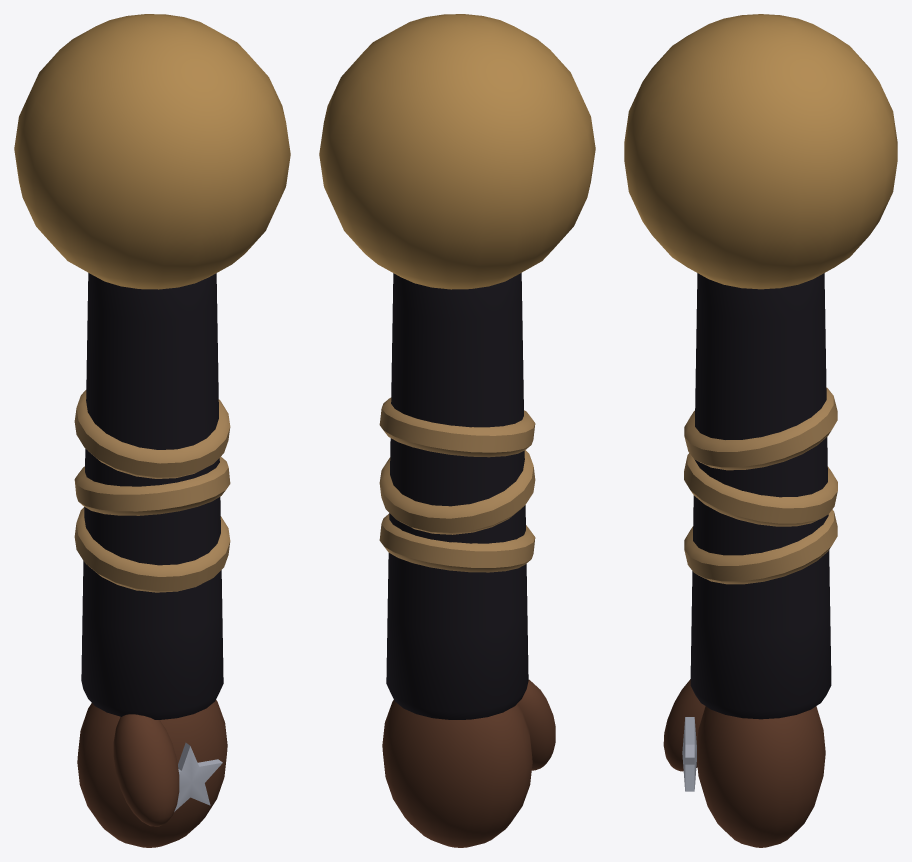
Rendered from Arm_Ninja_R.fbx.
3 renders of one model, left to right at view 1: azimuth 30°, elevation 25°; view 2: azimuth 150°, elevation 25°; view 3: azimuth 270°, elevation 25°, orthographic.
Parts seen in each view (by area): view 1: Arm_Ninja_R; view 2: Arm_Ninja_R; view 3: Arm_Ninja_R.
Part boxes in pixels (x1,y1,x2,y2): Arm_Ninja_R: (14,14,290,847); Arm_Ninja_R: (319,14,595,847); Arm_Ninja_R: (624,14,897,847).
Bounding box in the file's own units: 0.07 × 0.228 × 0.0693.
